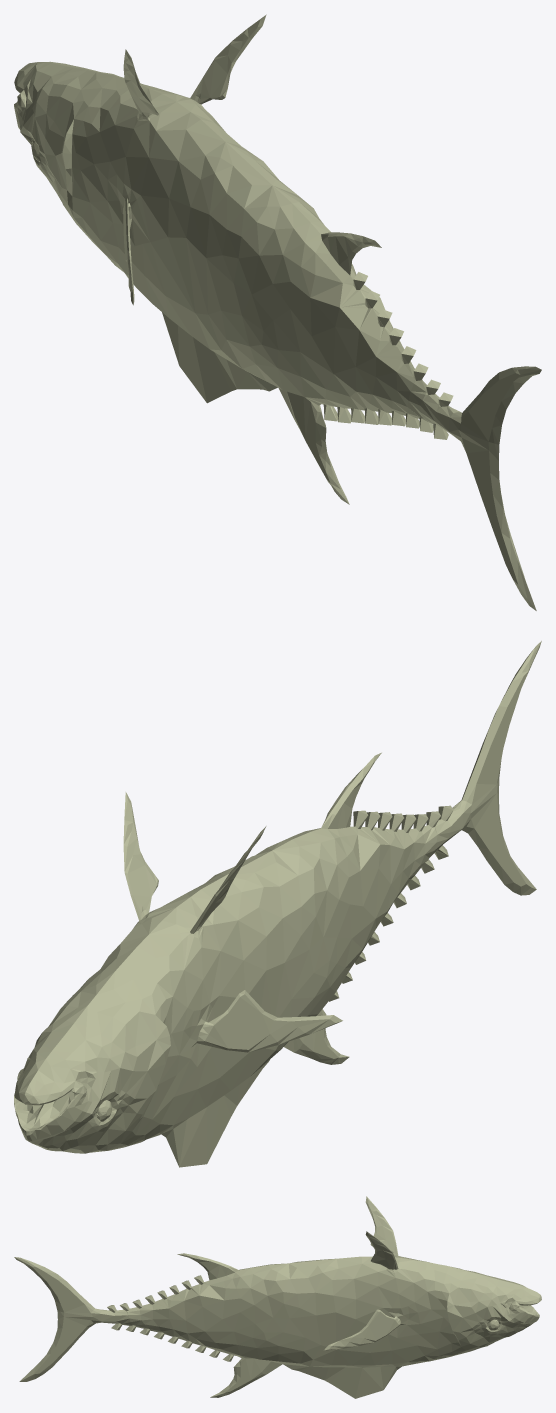
Rendered from tinker.obj.
The picture shows the model from 3 angles, top to bottom: view 1: azimuth 30°, elevation 25°; view 2: azimuth 150°, elevation 25°; view 3: azimuth 270°, elevation 25°; orthographic projection. The views are drawn at different scales.
Visible parts, largest first — view 1: obj_0; view 2: obj_0; view 3: obj_0.
Part boxes in pixels (x1,y1,x2,y2): obj_0: [14, 14, 541, 610]; obj_0: [14, 641, 541, 1167]; obj_0: [14, 1196, 541, 1398].
Size of the model in its own units: 0.31 by 0.513 by 1.32.
